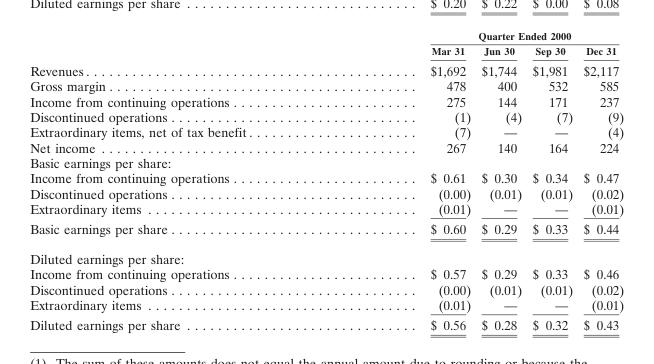table: (29, 29, 623, 332)
table column: (29, 29, 340, 332), (340, 29, 475, 332), (475, 29, 526, 332), (526, 29, 577, 332), (577, 29, 623, 332)
table column header: (29, 29, 623, 59)
table projected row header: (29, 243, 623, 266), (29, 154, 623, 169)
table row: (29, 218, 623, 243), (29, 243, 623, 266), (29, 59, 623, 78), (29, 200, 623, 218), (29, 296, 623, 314), (29, 314, 623, 332), (29, 42, 623, 59), (29, 108, 623, 124), (29, 169, 623, 185), (29, 78, 623, 93), (29, 93, 623, 108), (29, 124, 623, 139), (29, 139, 623, 154), (29, 154, 623, 169), (29, 185, 623, 200), (29, 266, 623, 281), (29, 281, 623, 296), (29, 29, 623, 42)
table spanning cell: (340, 29, 623, 42)
